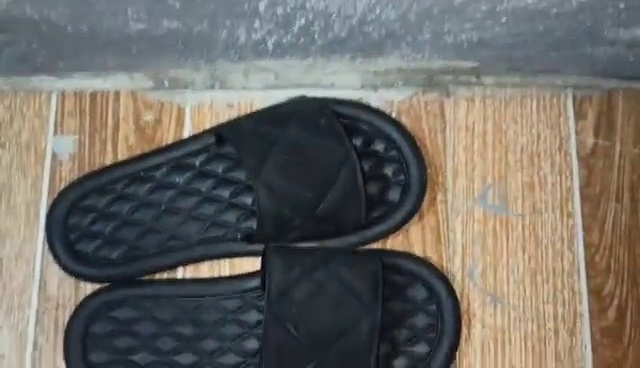slipper: (46, 98, 428, 283), (58, 245, 460, 368)
